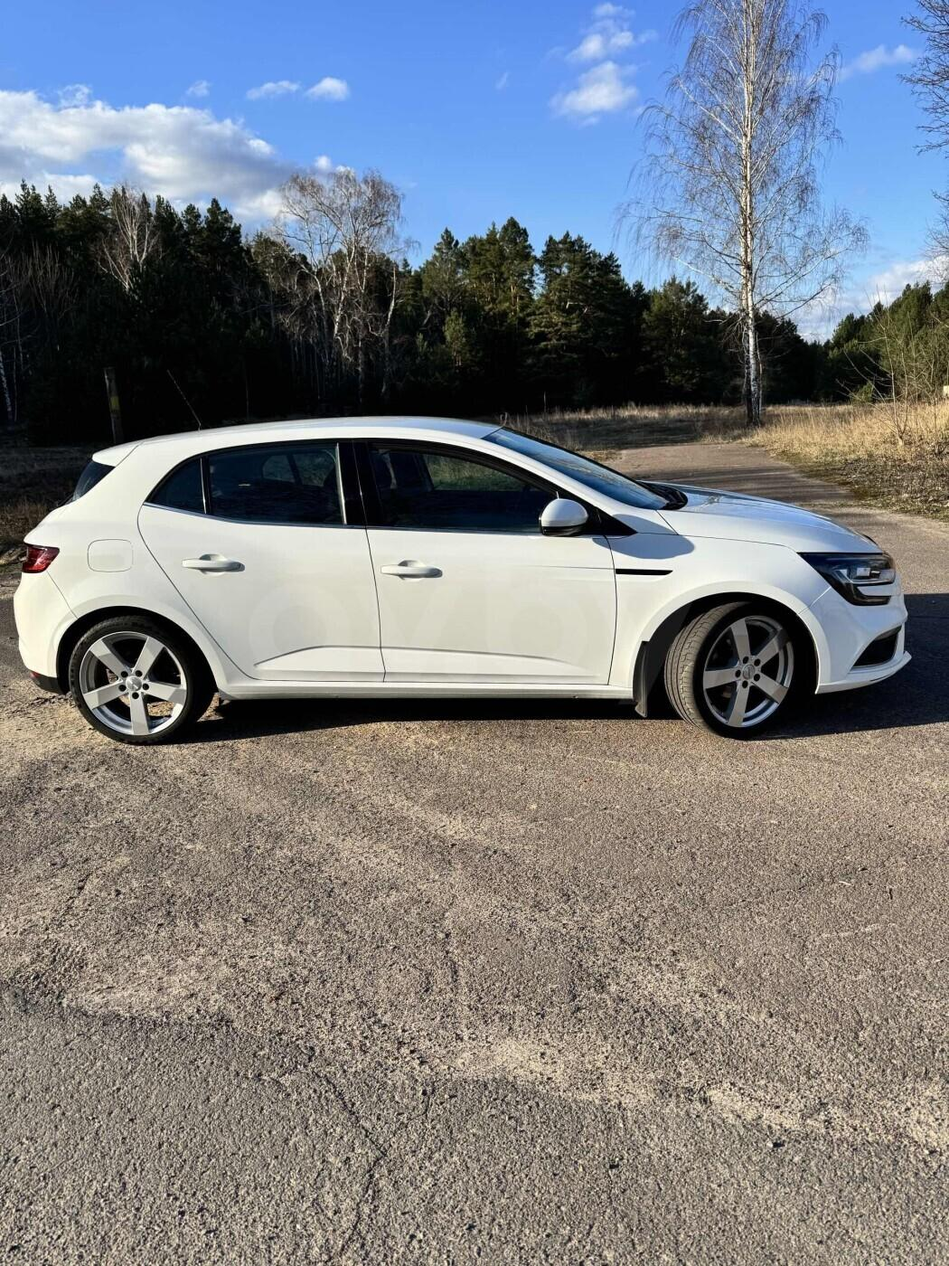Megane_2016-2020: (11, 418, 924, 740)
